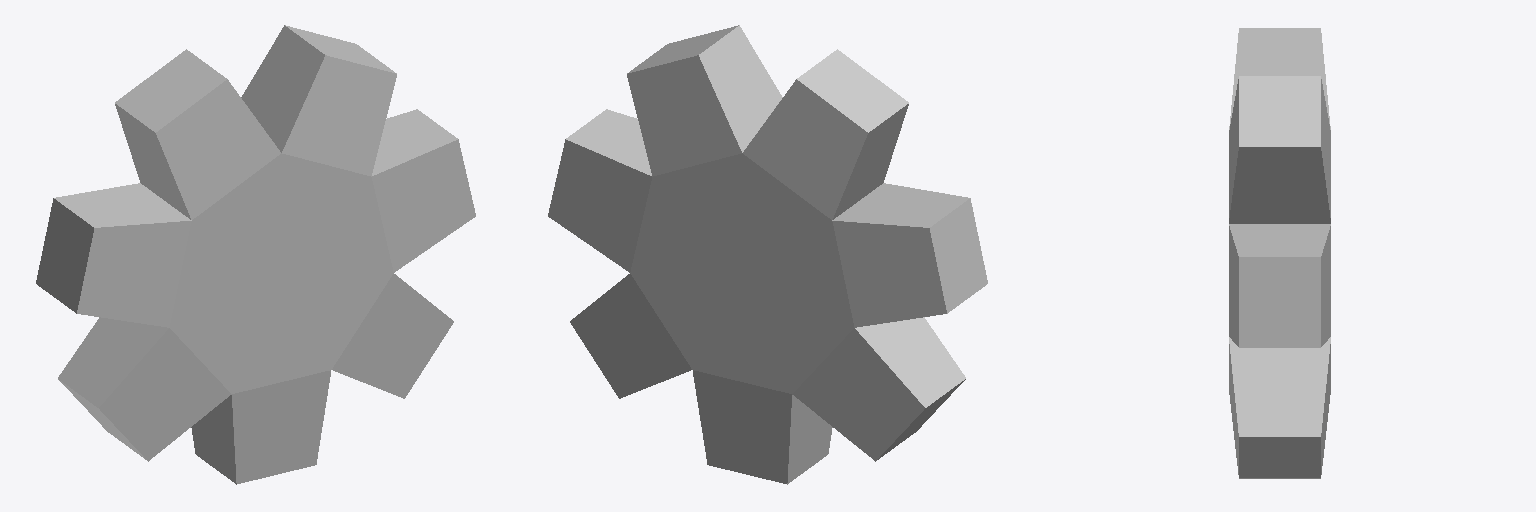
The model's file is door-engine.obj.
3 renders of one model, left to right at view 1: azimuth 30°, elevation 25°; view 2: azimuth 150°, elevation 25°; view 3: azimuth 270°, elevation 25°, orthographic.
Visible parts, largest first — view 1: Circle; view 2: Circle; view 3: Circle.
Boxes of the visible parts, box(x1,y1,x2,y2) form: Circle: box(36, 25, 475, 484); Circle: box(548, 25, 987, 484); Circle: box(1229, 28, 1330, 478).
Bounding box in the file's own units: 0.8671 × 0.8454 × 0.1929.